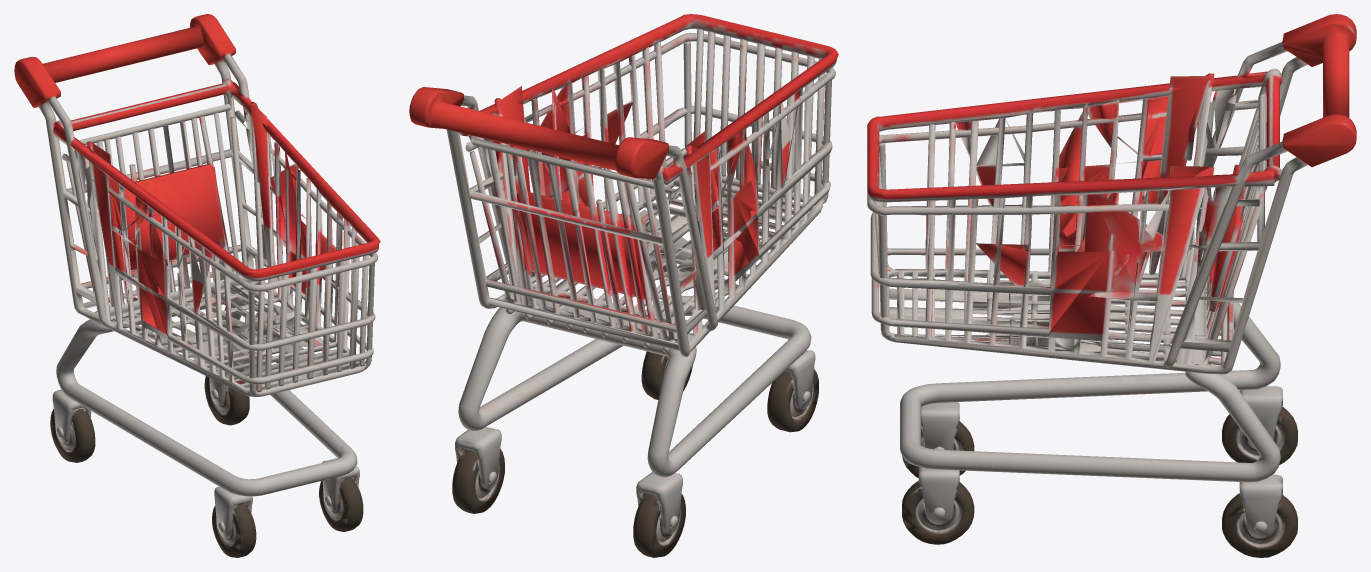
File: a_shopping_cart_077f1653_v3.glb
3 views of the same model, side by side, from view 1: azimuth 30°, elevation 25°; view 2: azimuth 150°, elevation 25°; view 3: azimuth 270°, elevation 25° (orthographic). The views are drawn at different scales.
Visible parts, largest first — view 1: material; view 2: material; view 3: material.
Boxes of the visible parts, x1,y1,x2,y2 form: material: (14,14,380,557); material: (409,14,838,557); material: (867,14,1356,557).
Bounding box in the file's own units: 1.01 × 1.9 × 1.9.
1 material, 1 textured.
